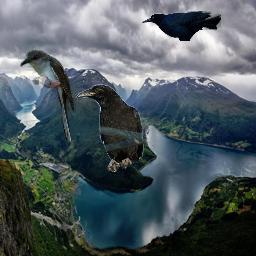Crow: (76, 84, 144, 172), (141, 11, 221, 41)
Cuckoo: (20, 50, 76, 142)
